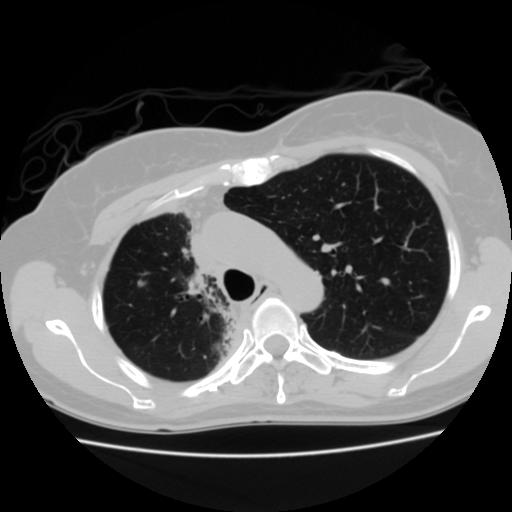nodule: (134, 276, 148, 290)
